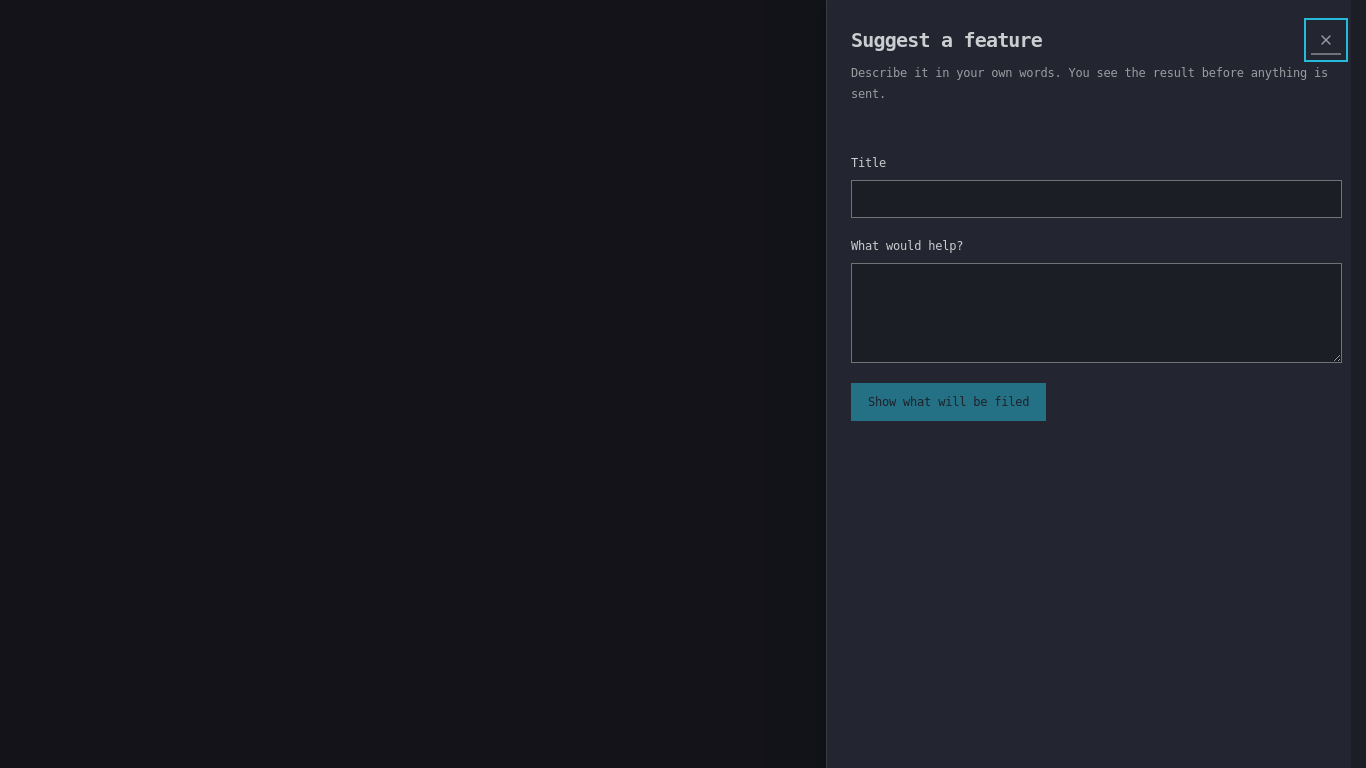
Test: report sheet › keeps the text and shows the refusal when the report is refused
Click the field labelled "Title" at (1096, 199), box [851,180,1342,218]
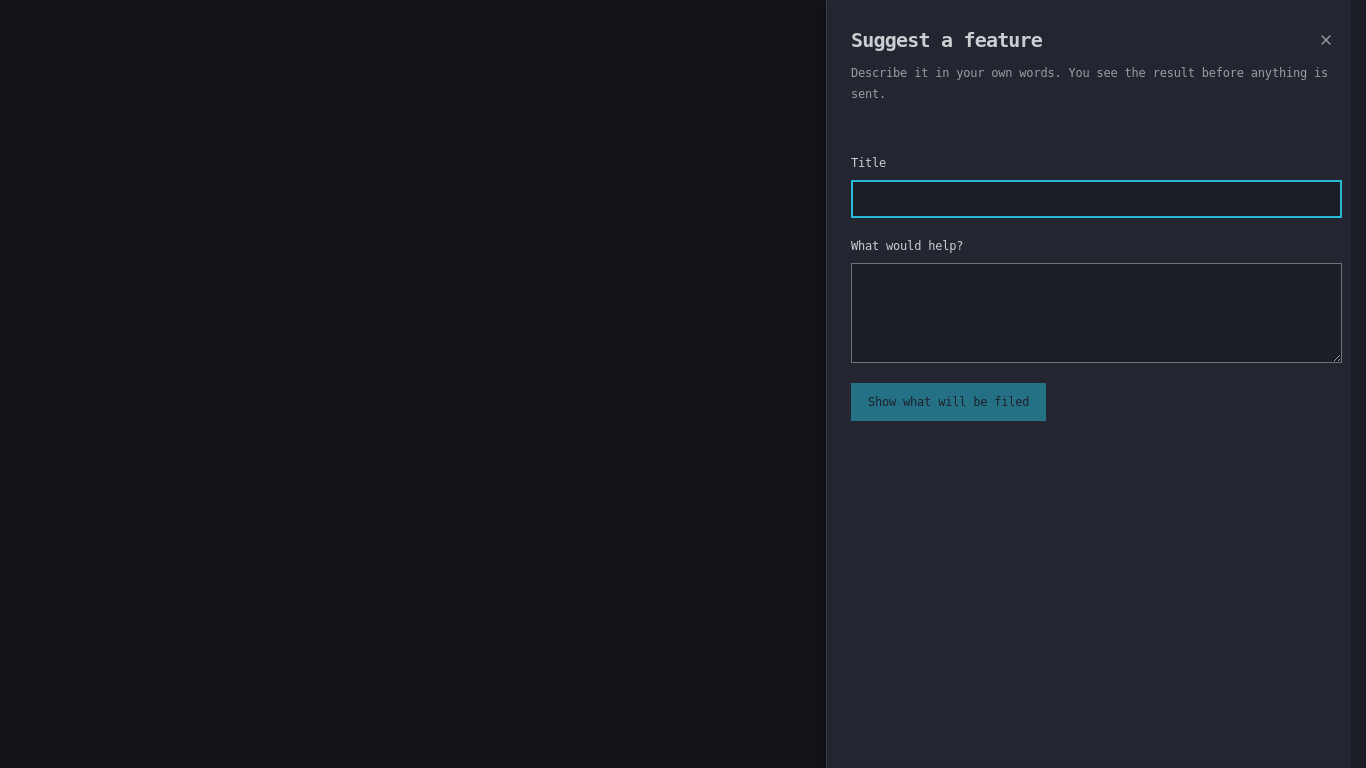
Type keys "Dark mode"
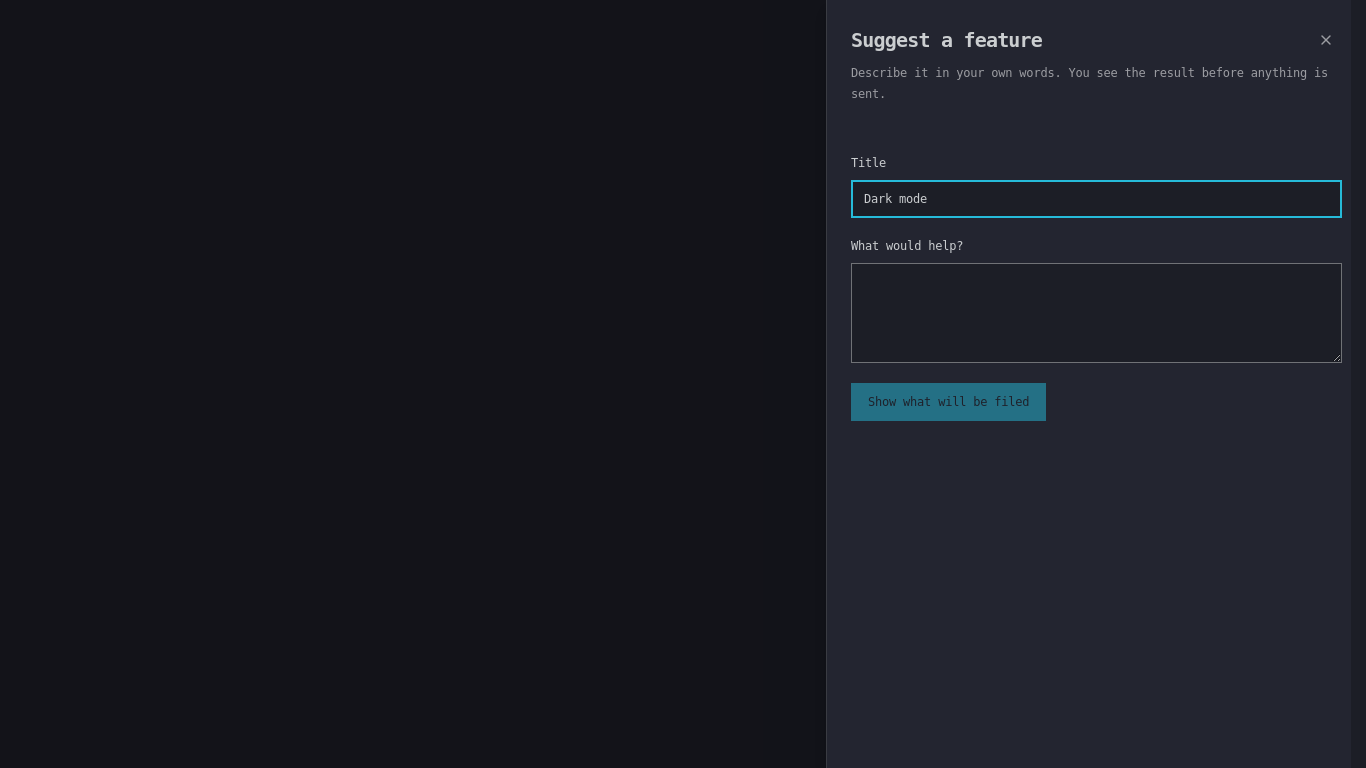
Click the text box labelled "What would help?" at (1096, 313), box [851,263,1342,363]
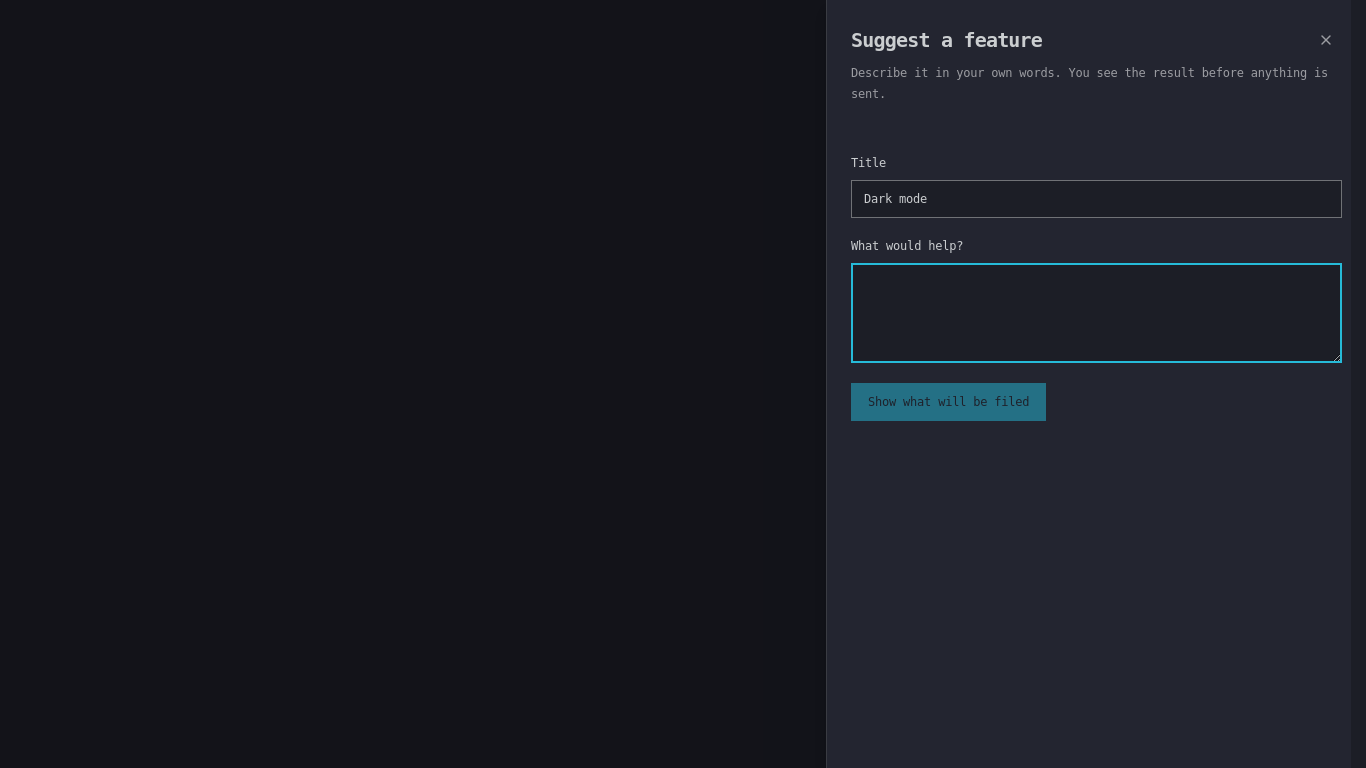
Type keys "Please"
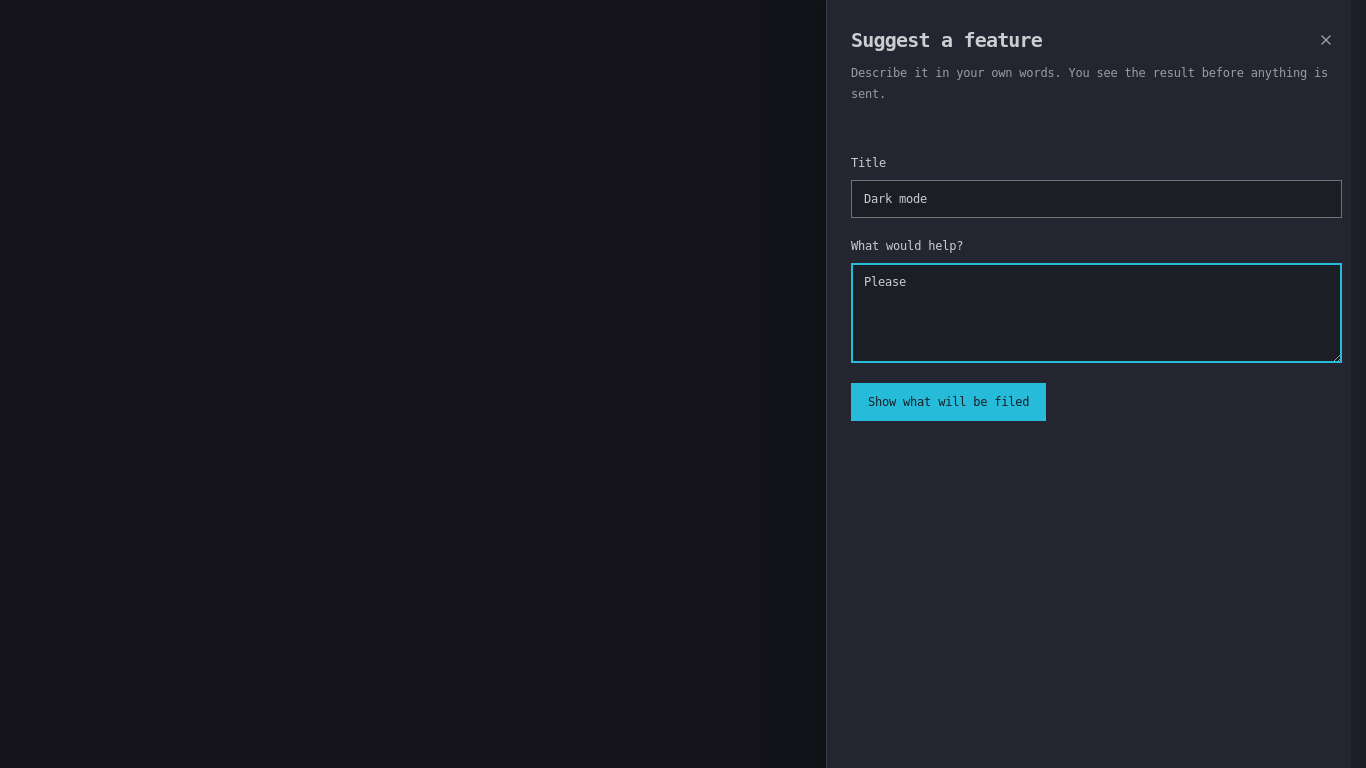
Click the button "Show what will be filed" at (949, 402), box [851,383,1046,421]
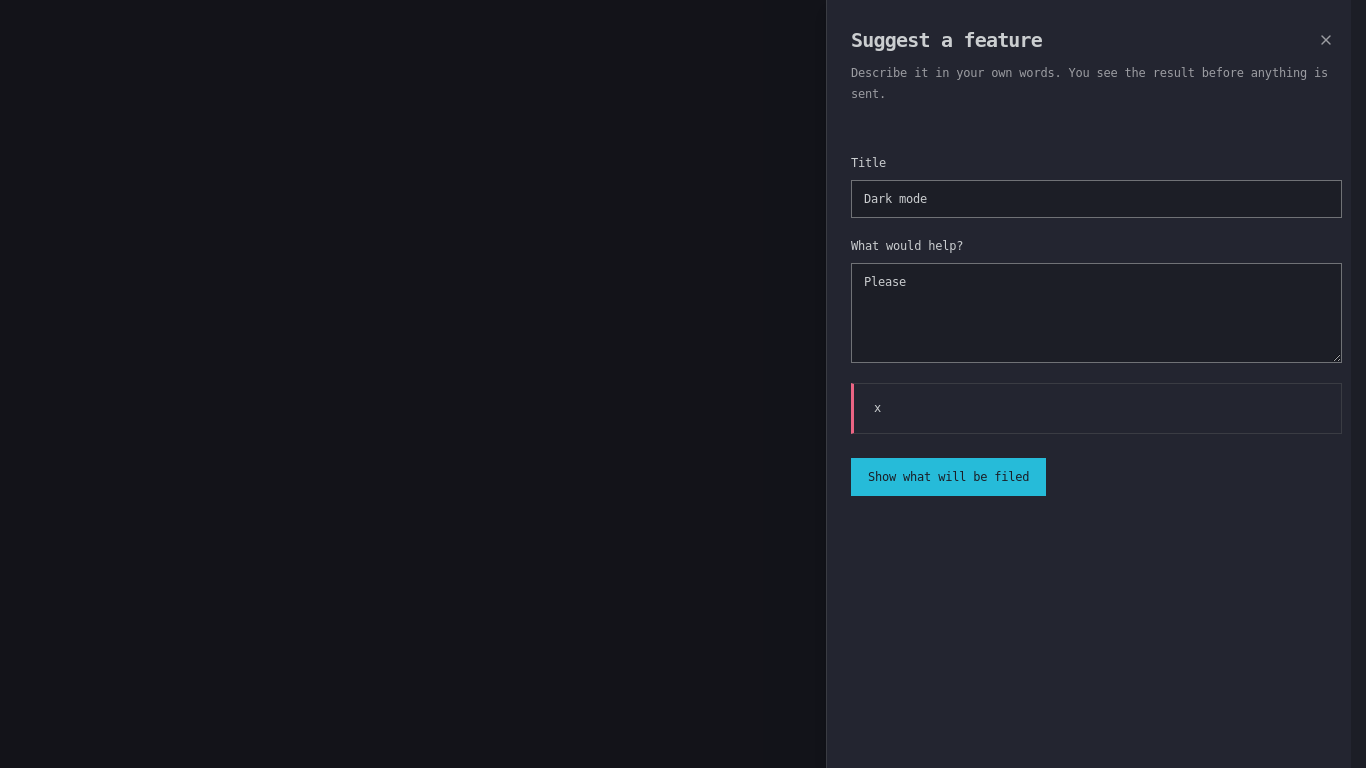
Result: the field labelled "Title" holds "Dark mode" at [851,180,1342,218]
Result: the message "x" is shown at [851,383,1342,434]
